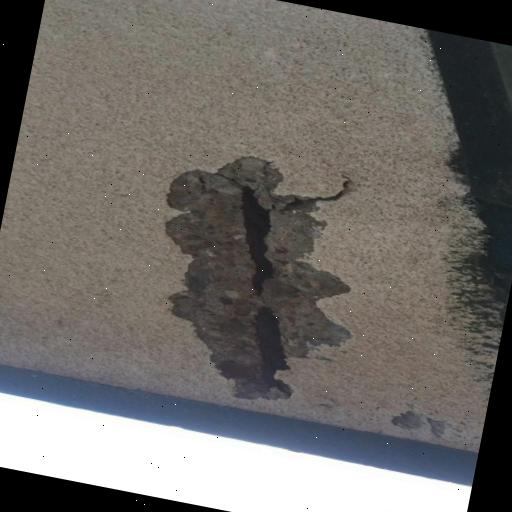spalling: (100, 109, 406, 418)
